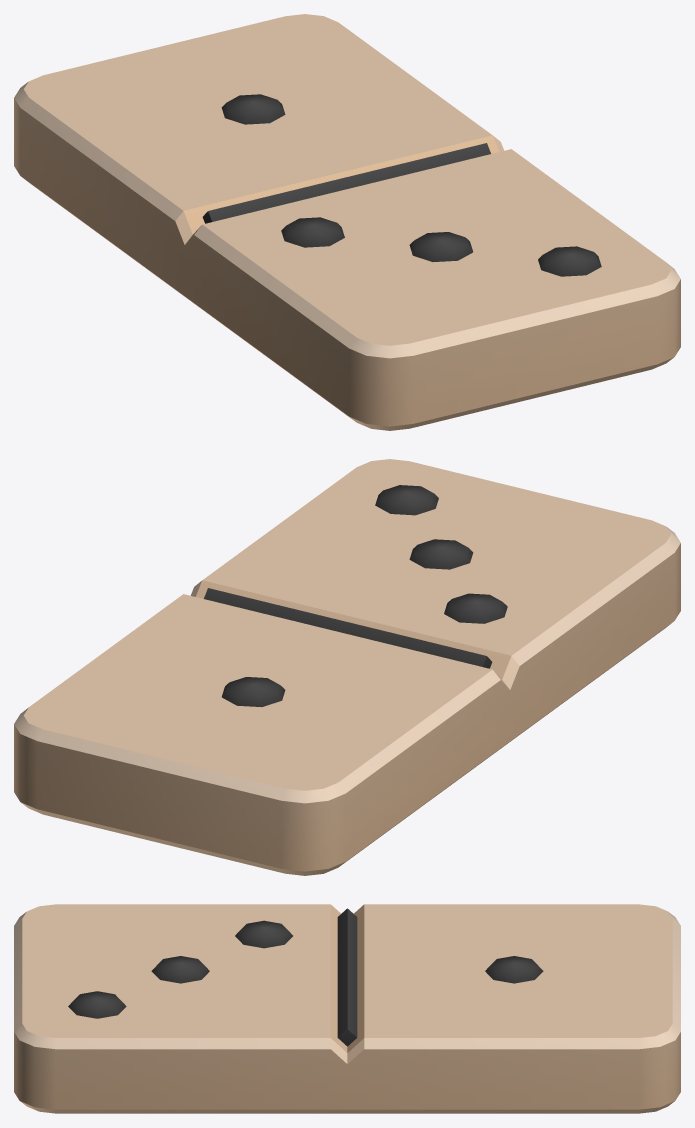
File: domino_tile_1-3.obj
3 renders of one model, top to bottom at view 1: azimuth 30°, elevation 25°; view 2: azimuth 150°, elevation 25°; view 3: azimuth 270°, elevation 25°, orthographic. The views are drawn at different scales.
Parts seen in each view (by area): view 1: domino_tile_1-3; view 2: domino_tile_1-3; view 3: domino_tile_1-3.
Part boxes in pixels (x1,y1,x2,y2): domino_tile_1-3: (14,14,680,430); domino_tile_1-3: (14,459,680,875); domino_tile_1-3: (14,904,680,1113).
Size of the model in its own units: 1 by 0.2767 by 2.
Materials: 1 (1 with a texture image).
